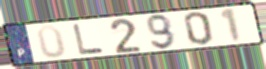0: (182, 10, 216, 47), (35, 24, 68, 60)
1: (220, 7, 242, 45)
2: (108, 16, 144, 55)
9: (146, 13, 179, 51)
L: (71, 23, 107, 55)
